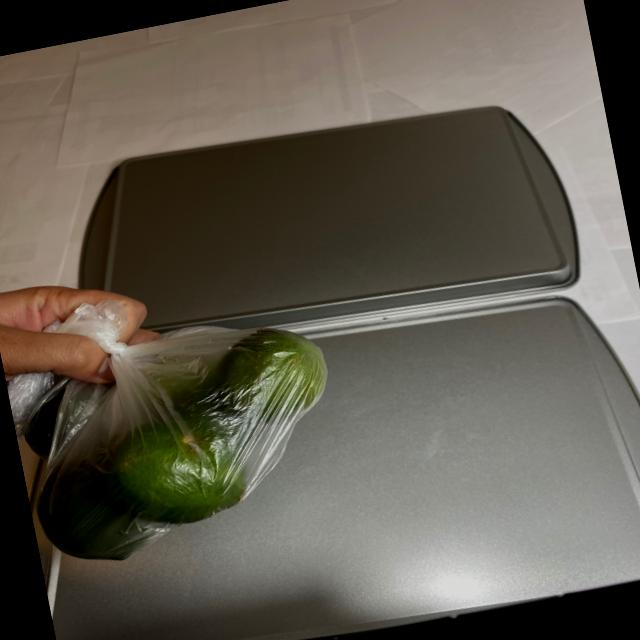lemon: (11, 304, 356, 578)
